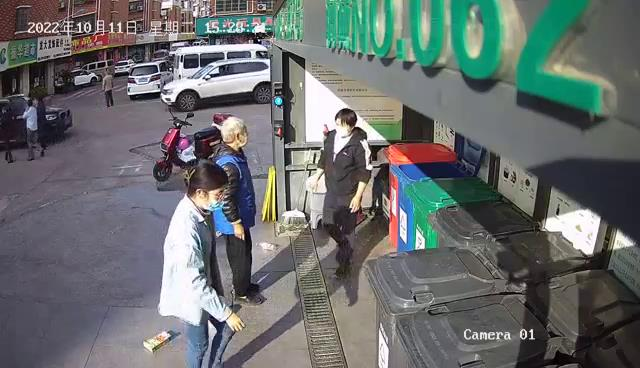person: (301, 105, 374, 313)
suliaozhipin: (254, 238, 279, 253)
worker: (155, 113, 274, 368)
zhizhipin: (141, 328, 177, 354)
